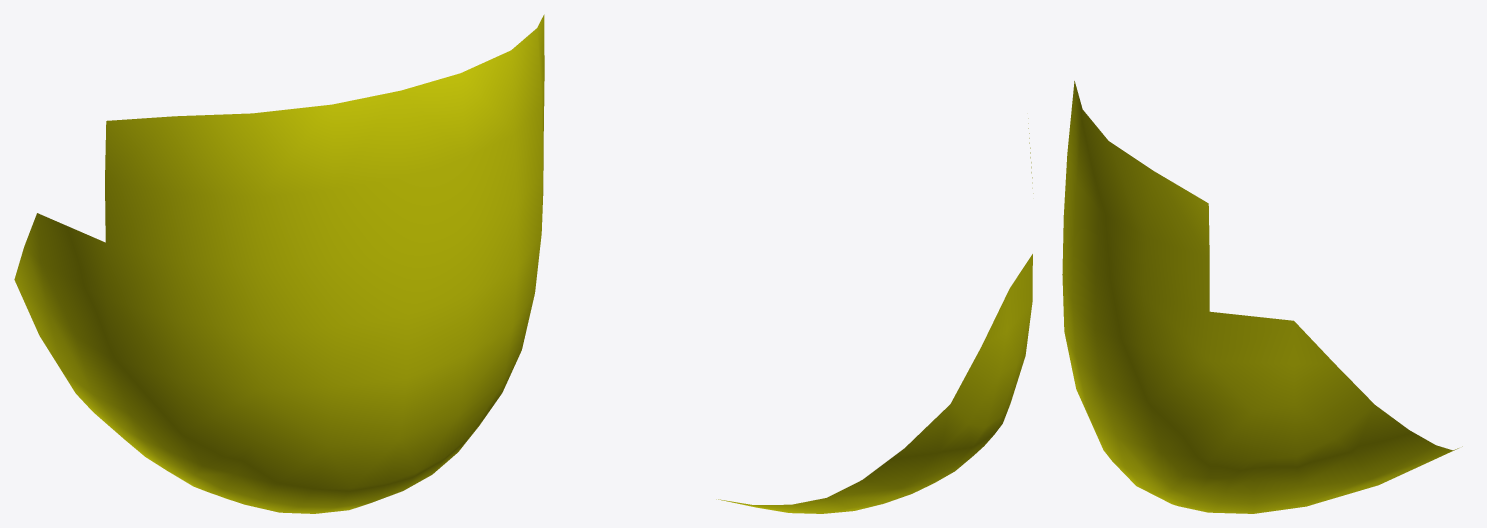
Rendered from Faceline_1.glb.
The picture shows the model from 3 angles, left to right: view 1: azimuth 30°, elevation 25°; view 2: azimuth 150°, elevation 25°; view 3: azimuth 270°, elevation 25°; orthographic projection. The views are drawn at different scales.
Bounding box in the file's own units: 52.6 × 49.07 × 43.9.
